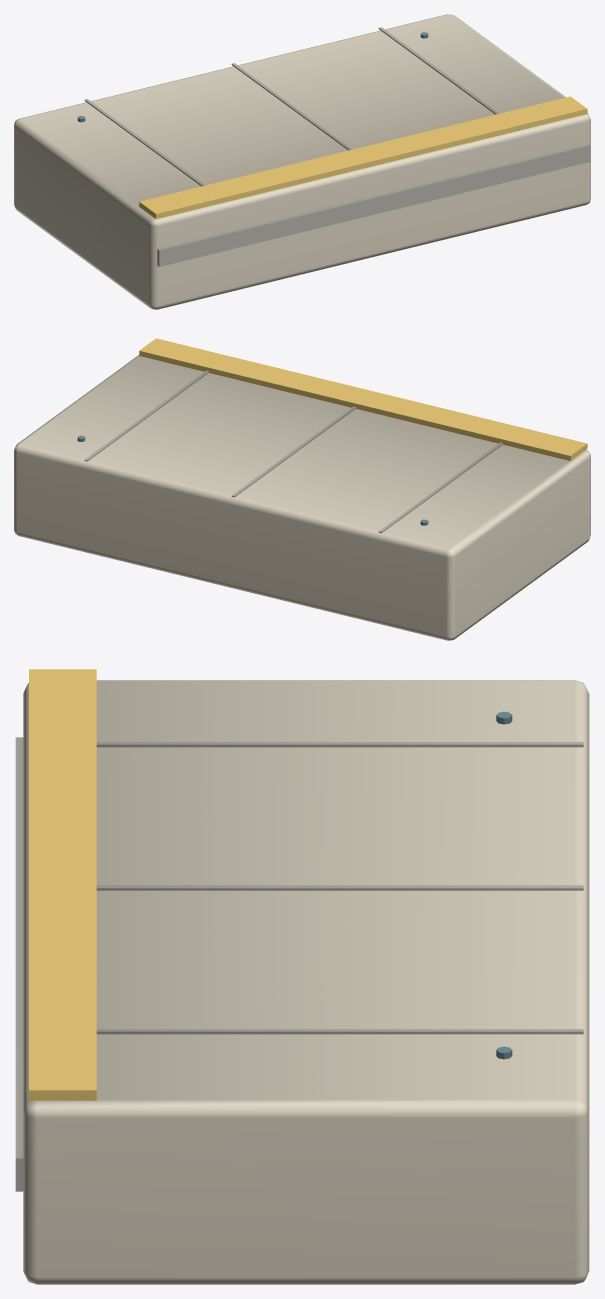
File: access-step.glb
The picture shows the model from 3 angles, top to bottom: view 1: azimuth 30°, elevation 25°; view 2: azimuth 150°, elevation 25°; view 3: azimuth 270°, elevation 25°; orthographic projection. The views are drawn at different scales.
Parts seen in each view (by area): view 1: raised curb, paving joint, edge stripe; view 2: raised curb, edge stripe, paving joint; view 3: raised curb, edge stripe, paving joint.
Boxes of the visible parts, <box> form: raised curb: <box>14,14,590,309</box>; paving joint: <box>84,27,590,266</box>; edge stripe: <box>139,96,587,218</box>; raised curb: <box>14,355,590,640</box>; edge stripe: <box>139,338,587,460</box>; paving joint: <box>84,370,503,533</box>; raised curb: <box>23,680,589,1284</box>; edge stripe: <box>29,669,96,1100</box>; paving joint: <box>15,737,583,1191</box>.
Bounding box in the file's own units: 1.8 × 0.38 × 1.01.
